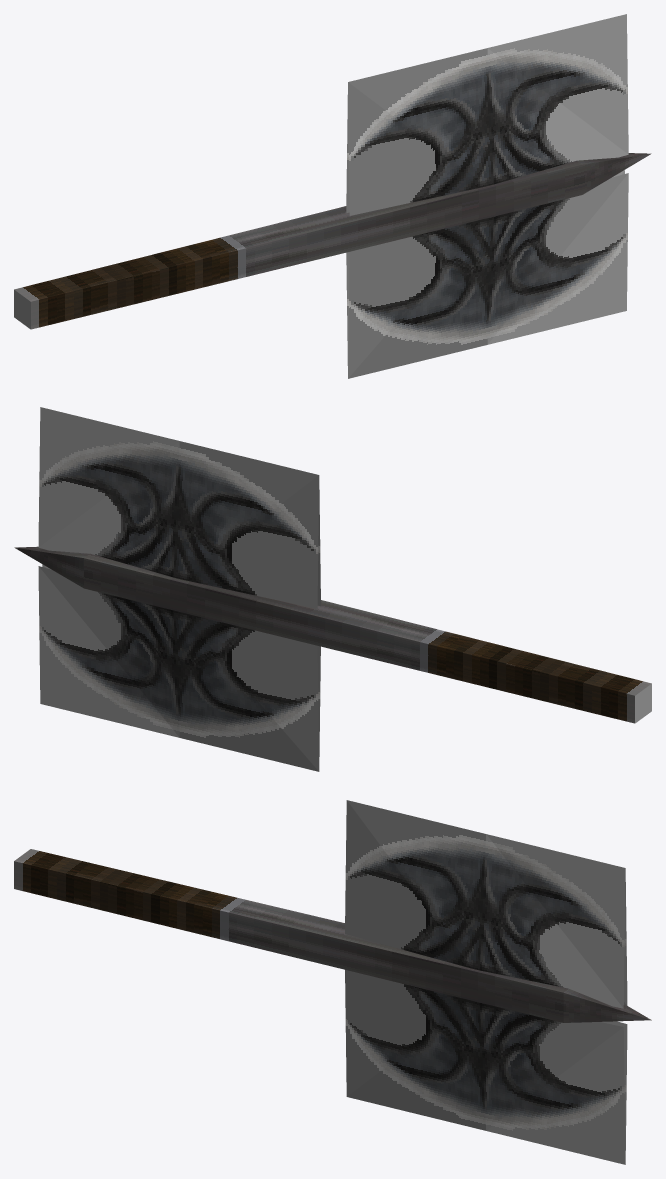
3 views of the same model, one above another, from view 1: azimuth 30°, elevation 25°; view 2: azimuth 150°, elevation 25°; view 3: azimuth 330°, elevation 25° (orthographic).
Visible parts, largest first — view 1: IT83_DMSPRITEDEF_node; view 2: IT83_DMSPRITEDEF_node; view 3: IT83_DMSPRITEDEF_node.
Boxes of the visible parts, <box> form: IT83_DMSPRITEDEF_node: <box>14,14,651,378</box>; IT83_DMSPRITEDEF_node: <box>14,407,651,771</box>; IT83_DMSPRITEDEF_node: <box>14,800,651,1164</box>.
Bounding box in the file's own units: 3.53 × 1.59 × 0.1785.
3 materials, 3 textured.
